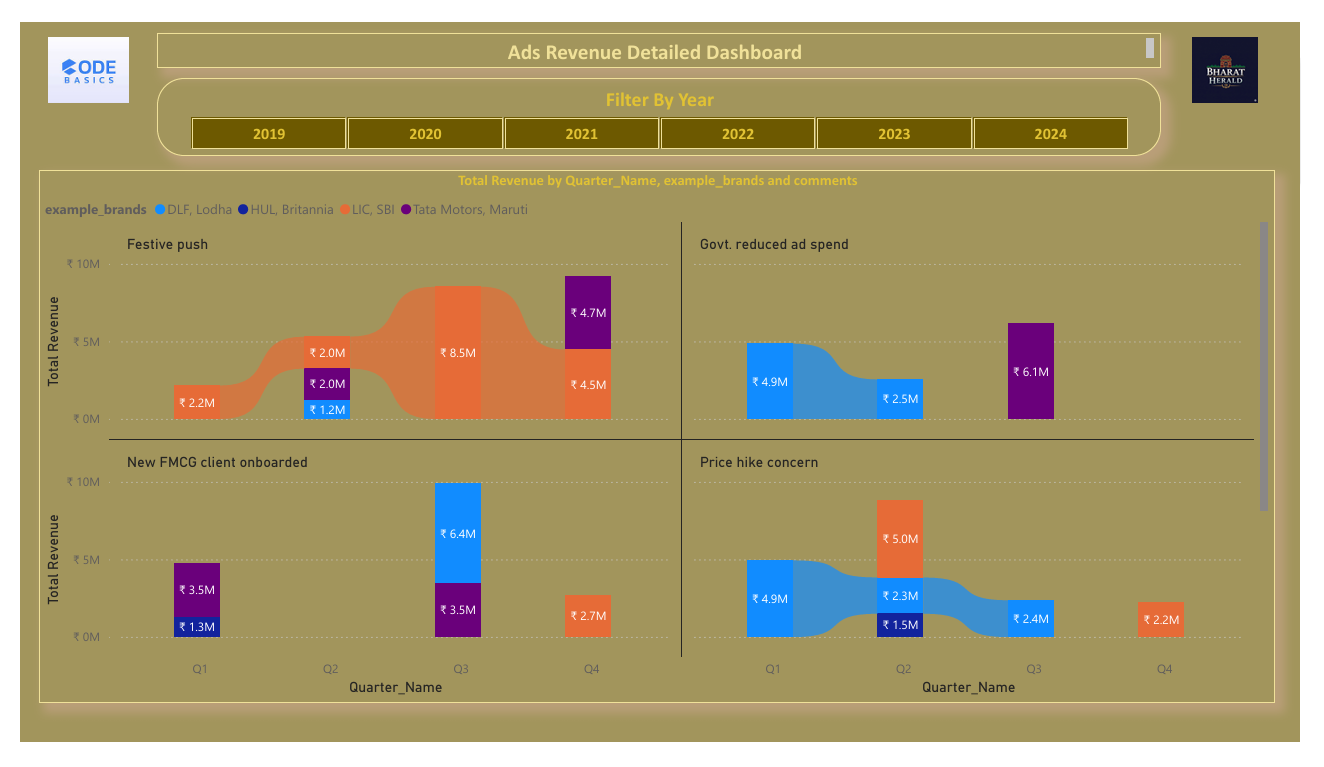

This screenshot's page, from the dashboard's own definition file:
{"tool":"powerbi","page":{"name":"Ad Revenue Detailed Dashboard","canvas":[1280,720],"ordinal":3},"visuals":[{"type":"textbox","box":[136.2,9.7,1003.8,35],"z":0},{"type":"image","box":[0,9.7,136.2,75.9],"z":1000},{"type":"image","box":[1130.2,9.7,149.8,75.9],"z":2000},{"type":"slicer","title":"Filter By Year","fields":{"Values":["UniqueYear.Year"]},"box":[136.2,55.4,1003.8,77.8],"z":3000},{"type":"ribbonChart","fields":{"Category":["Fact_AdRevenue.Quarter_Name"],"Y":["Ads Revenue Measure.Total Revenue"],"Series":["Dim_Category.example_brands"],"Rows":["Fact_AdRevenue.comments"]},"box":[17.5,146.9,1236.2,533],"z":4000}]}

Visuals, with their boxes in screenshot pixels (x1, y1, x2, y2), scaled from the page's 1280x720 canvas onto the 1324x767 screenshot:
textbox: l=141, t=10, r=1179, b=48
image: l=0, t=10, r=141, b=91
image: l=1169, t=10, r=1323, b=91
"Filter By Year" slicer: l=141, t=59, r=1179, b=142
ribbonChart - Fact_AdRevenue.Quarter_Name x Ads Revenue Measure.Total Revenue: l=18, t=156, r=1297, b=724
